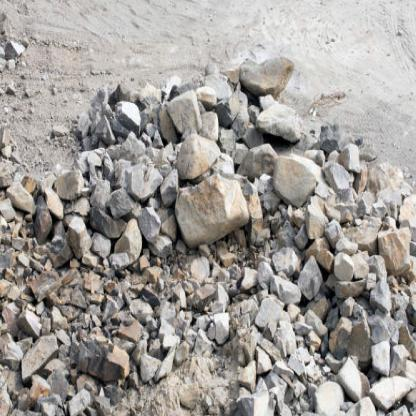Sedimentary_Limestone: (175, 172, 252, 245), (268, 152, 327, 208), (228, 54, 295, 99), (255, 93, 306, 149), (167, 92, 202, 138)
